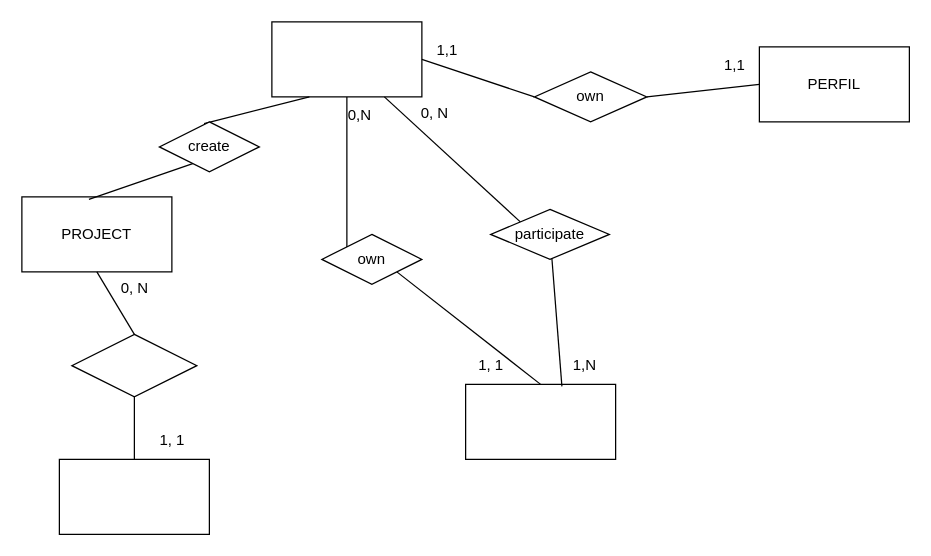
Some shapes in this 931 by 556 pixel diagram are drawn without their labels. Here are the shapes that lost their labels. From the top down, the centre of each, then its label:
At (x=346, y=59): "USER".
At (x=540, y=421): "ORGANIZATION".
At (x=133, y=496): "TASK".
